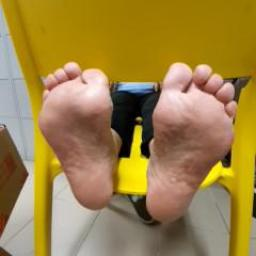Plantar View -Both Feet-: (26, 45, 248, 237)
